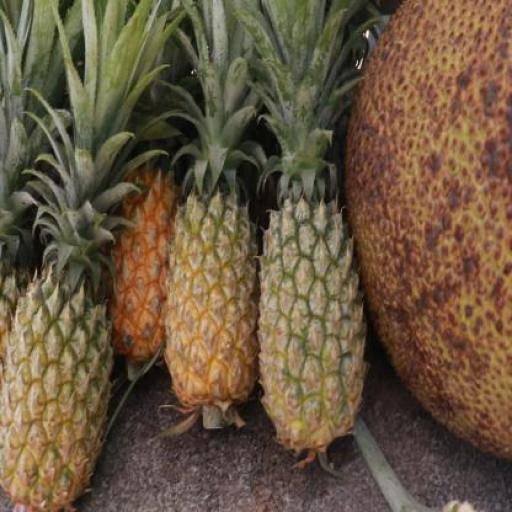------------------------------: (0, 283, 107, 506)
Pineapple - v8 v1: (164, 194, 259, 413), (108, 164, 184, 368)
